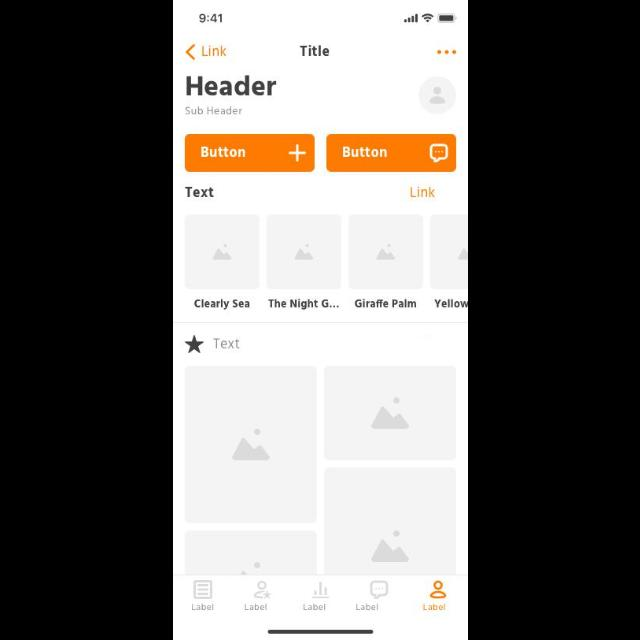icon: (418, 78, 456, 114), (192, 581, 212, 599), (184, 335, 203, 353), (370, 581, 388, 599), (254, 581, 272, 599), (429, 580, 446, 598), (312, 582, 330, 598), (186, 46, 196, 60), (438, 51, 457, 55)
image: (184, 366, 316, 524), (324, 468, 456, 574), (324, 366, 456, 460), (266, 214, 342, 290), (348, 214, 422, 290), (185, 215, 259, 289), (430, 214, 468, 290)
text: (186, 76, 276, 96), (268, 300, 338, 310), (354, 298, 416, 308), (194, 300, 250, 310), (185, 107, 243, 115), (184, 186, 213, 198), (212, 338, 240, 349), (300, 46, 328, 56), (434, 299, 468, 307), (410, 187, 436, 197), (202, 46, 226, 56), (423, 602, 445, 610), (302, 604, 326, 610), (191, 604, 213, 610), (244, 604, 266, 610), (356, 604, 378, 610)
textbutton: (326, 134, 456, 172), (185, 134, 315, 172)
uppertaskbar: (199, 14, 456, 24)
